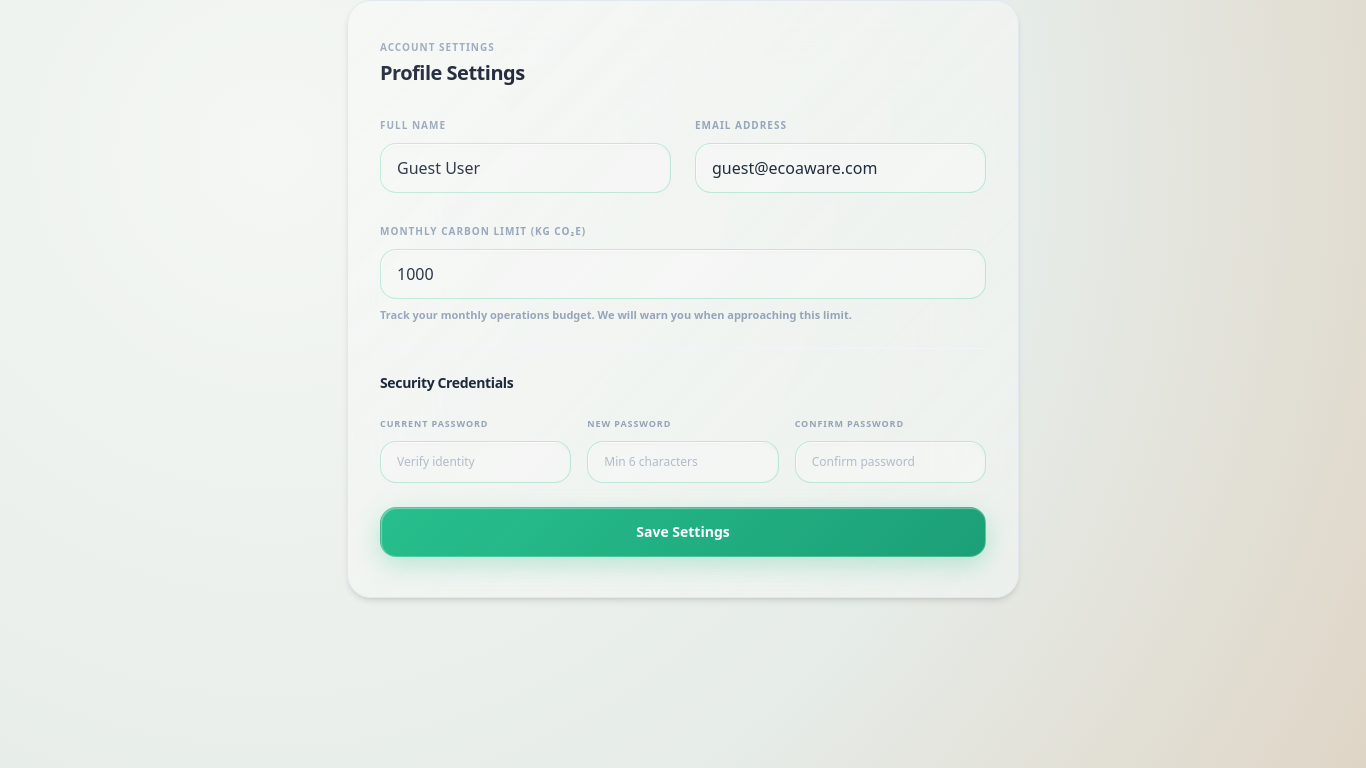
SettingsPage Component › displays API fallback errors when update request fails
Replace the text in the field below "Full Name" with "Alex Error": [526, 168] box [380,143,671,193]
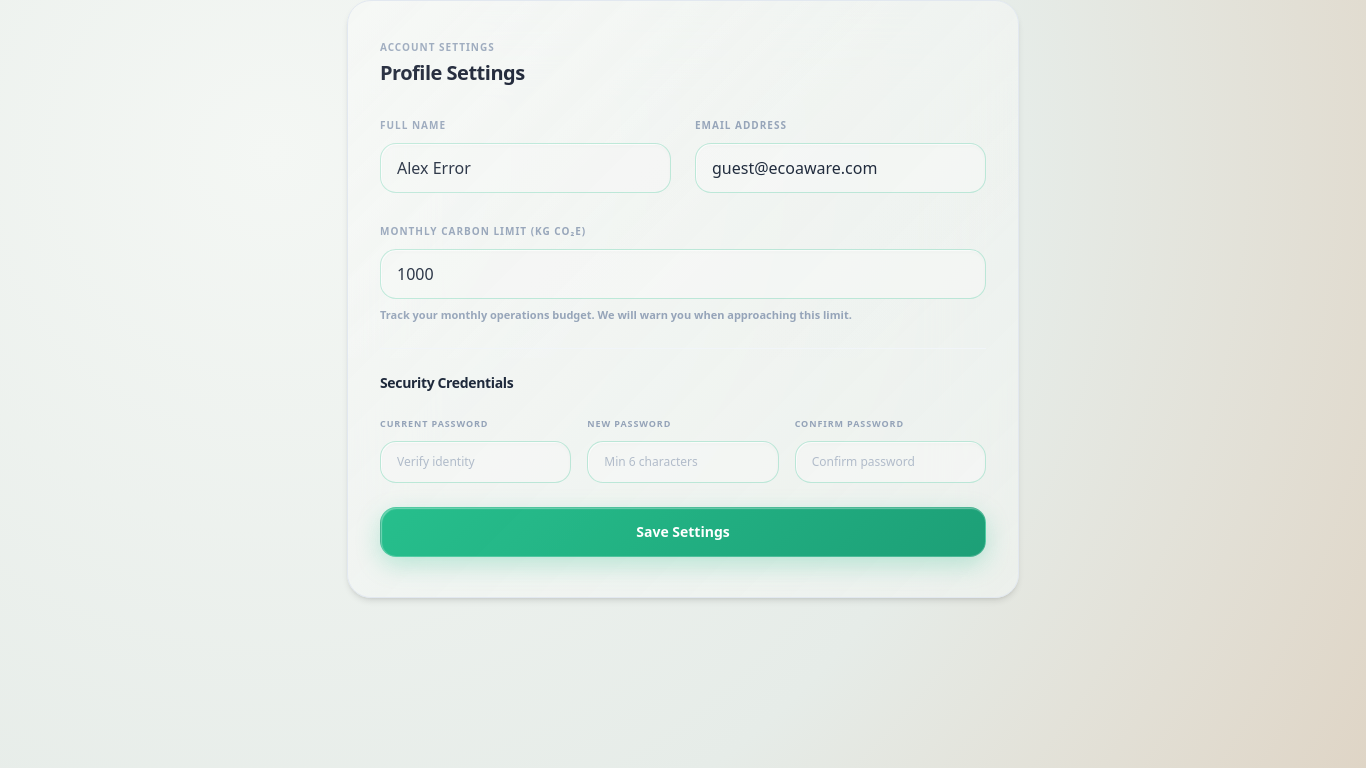
Click the button "Save Settings": [683, 532] box [380,506,986,556]
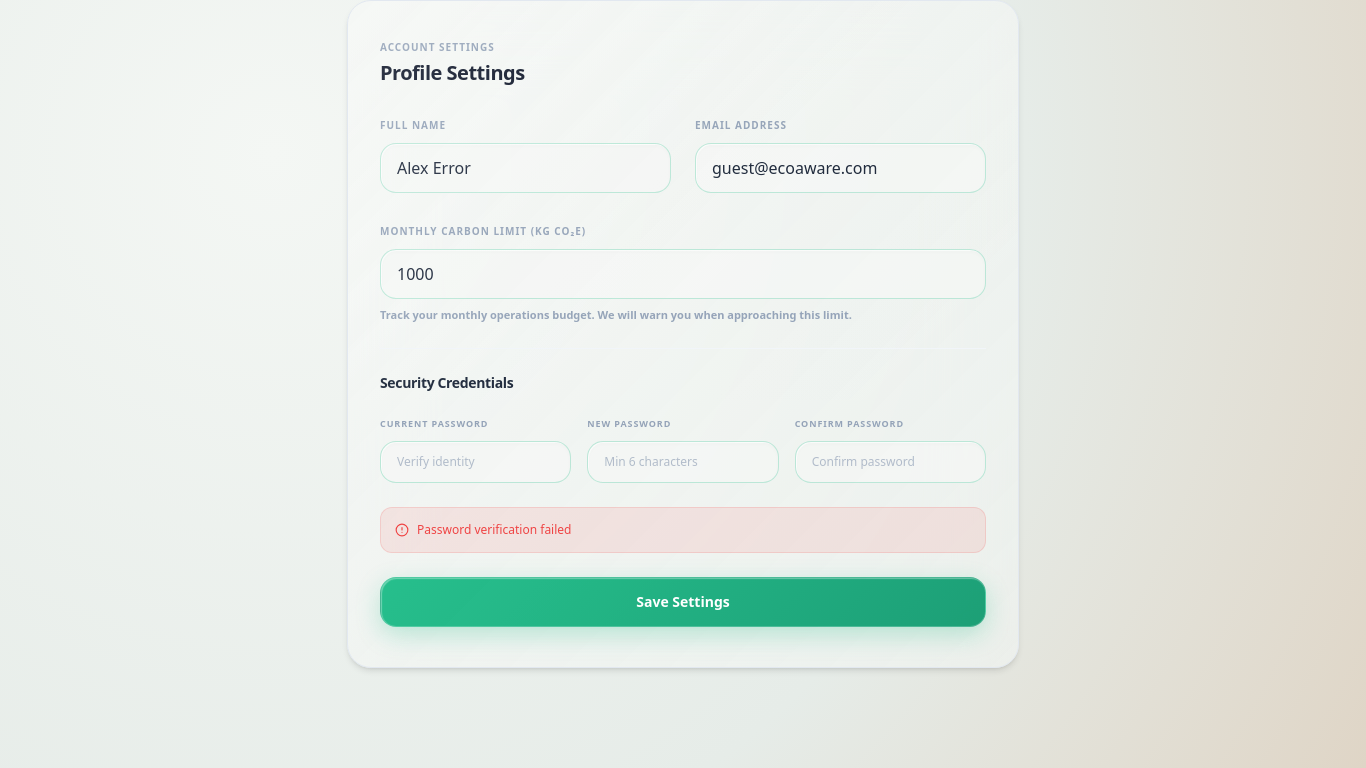
Now the text "Password verification failed" is shown, box [417,522,572,538]
